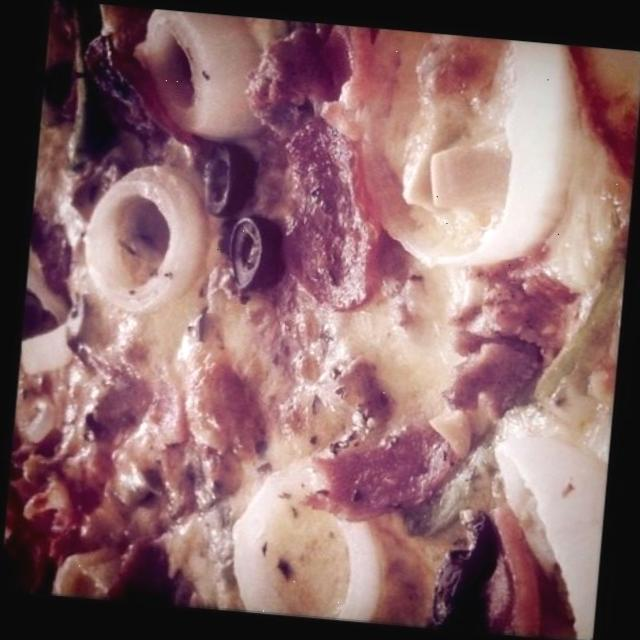Olive: (225, 212, 285, 306), (196, 136, 258, 220)
pepperoni: (275, 116, 394, 314)
pizza: (0, 2, 640, 640)
